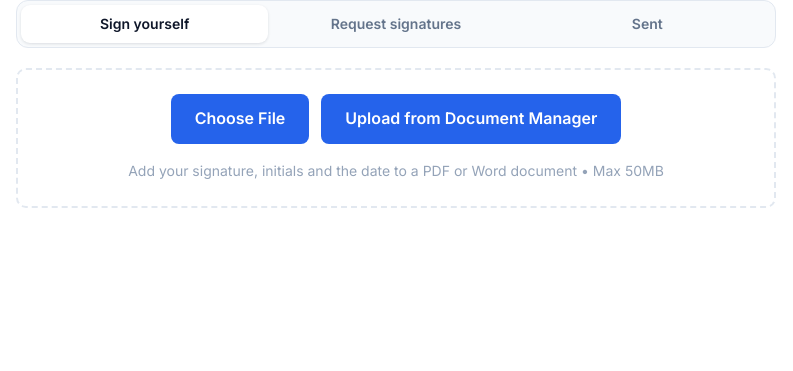
Test case: guests are asked to create an account to request signatures
Click the tab "Request signatures". click: (396, 24)
box: [272,5,520,43]
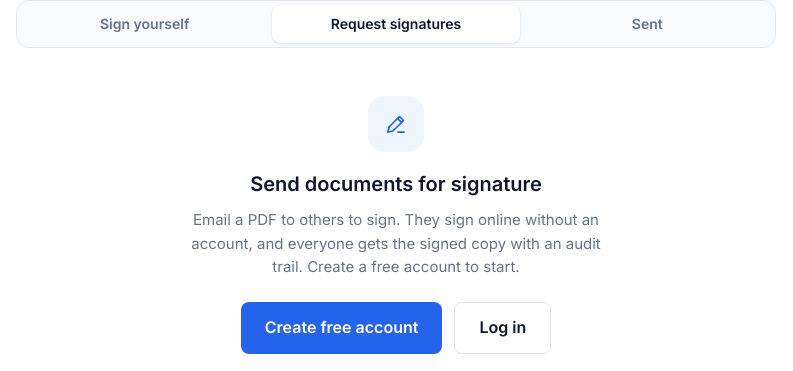
Result: the heading "Send documents for signature" is shown at [250,172,542,196]
Result: the button "Create free account" is shown at [241,302,442,354]
